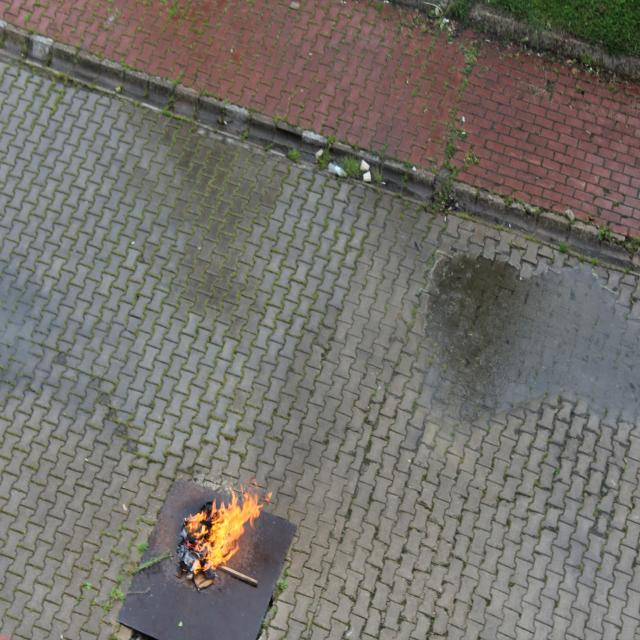fire: (148, 473, 279, 602)
